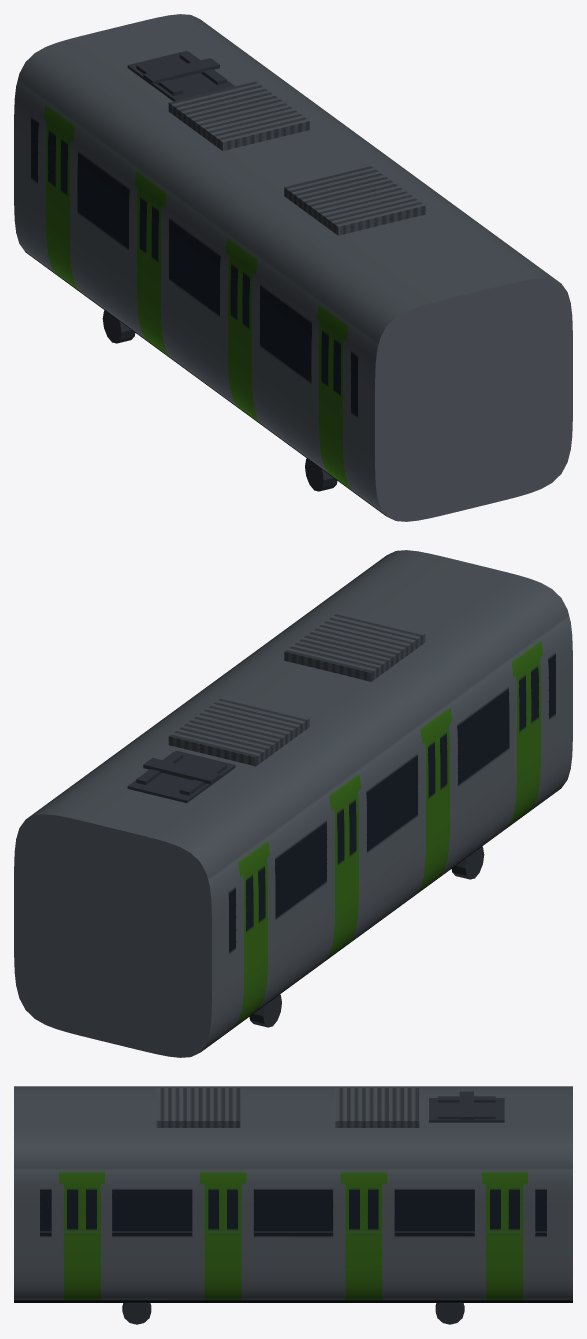
The model's file is Commuter_Lime_Middle.fbx.
3 renders of one model, top to bottom at view 1: azimuth 30°, elevation 25°; view 2: azimuth 150°, elevation 25°; view 3: azimuth 270°, elevation 25°, orthographic. The views are drawn at different scales.
Parts seen in each view (by area): view 1: Commuter_Lime_Middle, Commuter_Lime_Middle_Cap-1, Commuter_Lime_Middle_Root_AirCon1, Commuter_Lime_Middle_Root_AirCon0, Commuter_Lime_Middle_Root_PanBase, Commuter_Lime_Middle_Root_PanShoe, Commuter_Lime_Middle_Root_Wheel.001, Commuter_Lime_Middle_Root_Wheel.003; view 2: Commuter_Lime_Middle, Commuter_Lime_Middle_Cap1, Commuter_Lime_Middle_Root_AirCon1, Commuter_Lime_Middle_Root_AirCon0, Commuter_Lime_Middle_Root_PanBase, Commuter_Lime_Middle_Root_PanShoe, Commuter_Lime_Middle_Root_Wheel.003, Commuter_Lime_Middle_Root_Wheel.001; view 3: Commuter_Lime_Middle, Commuter_Lime_Middle_Root_AirCon0, Commuter_Lime_Middle_Root_AirCon1, Commuter_Lime_Middle_Root_PanBase, Commuter_Lime_Middle_Root_Wheel.002, Commuter_Lime_Middle_Root_Wheel, Commuter_Lime_Middle_Root_PanShoe, Commuter_Lime_Middle_Root_PanArm-1, Commuter_Lime_Middle_Root_PanArm1.
Boxes of the visible parts, x1,y1,x2,y2 form: Commuter_Lime_Middle: (14, 14, 559, 515); Commuter_Lime_Middle_Cap-1: (375, 278, 572, 521); Commuter_Lime_Middle_Root_AirCon1: (168, 81, 309, 151); Commuter_Lime_Middle_Root_AirCon0: (284, 166, 425, 235); Commuter_Lime_Middle_Root_PanBase: (127, 50, 234, 101); Commuter_Lime_Middle_Root_PanShoe: (143, 58, 219, 84); Commuter_Lime_Middle_Root_Wheel.001: (305, 458, 337, 491); Commuter_Lime_Middle_Root_Wheel.003: (102, 310, 135, 343); Commuter_Lime_Middle: (27, 550, 572, 1051); Commuter_Lime_Middle_Cap1: (14, 814, 211, 1057); Commuter_Lime_Middle_Root_AirCon1: (168, 696, 309, 766); Commuter_Lime_Middle_Root_AirCon0: (284, 612, 425, 681); Commuter_Lime_Middle_Root_PanBase: (127, 750, 235, 803); Commuter_Lime_Middle_Root_PanShoe: (143, 758, 219, 784); Commuter_Lime_Middle_Root_Wheel.003: (249, 994, 281, 1027); Commuter_Lime_Middle_Root_Wheel.001: (451, 846, 484, 879); Commuter_Lime_Middle: (14, 1086, 572, 1302); Commuter_Lime_Middle_Root_AirCon0: (156, 1088, 240, 1127); Commuter_Lime_Middle_Root_AirCon1: (335, 1088, 419, 1127); Commuter_Lime_Middle_Root_PanBase: (429, 1098, 504, 1122); Commuter_Lime_Middle_Root_Wheel.002: (122, 1302, 151, 1324); Commuter_Lime_Middle_Root_Wheel: (435, 1302, 464, 1324); Commuter_Lime_Middle_Root_PanShoe: (459, 1091, 473, 1119); Commuter_Lime_Middle_Root_PanArm-1: (437, 1096, 495, 1102); Commuter_Lime_Middle_Root_PanArm1: (437, 1113, 495, 1119).
Bounding box in the file's own units: 106 × 125 × 333.
2 materials, 1 textured.
